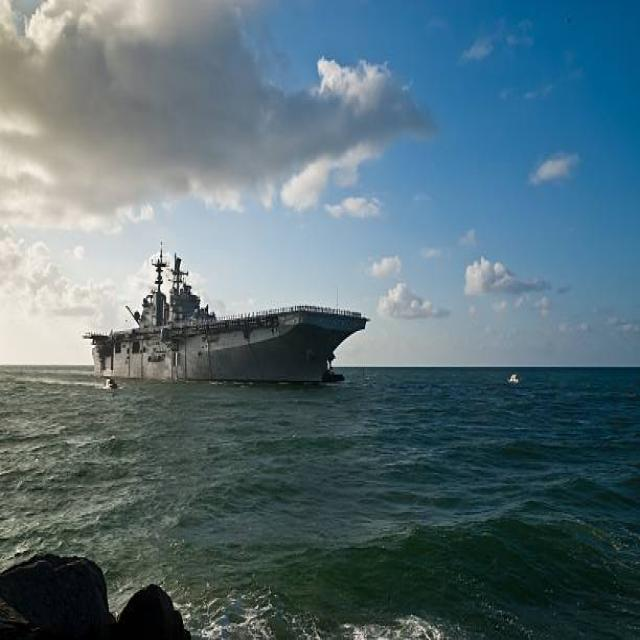Military: (84, 248, 370, 387)
